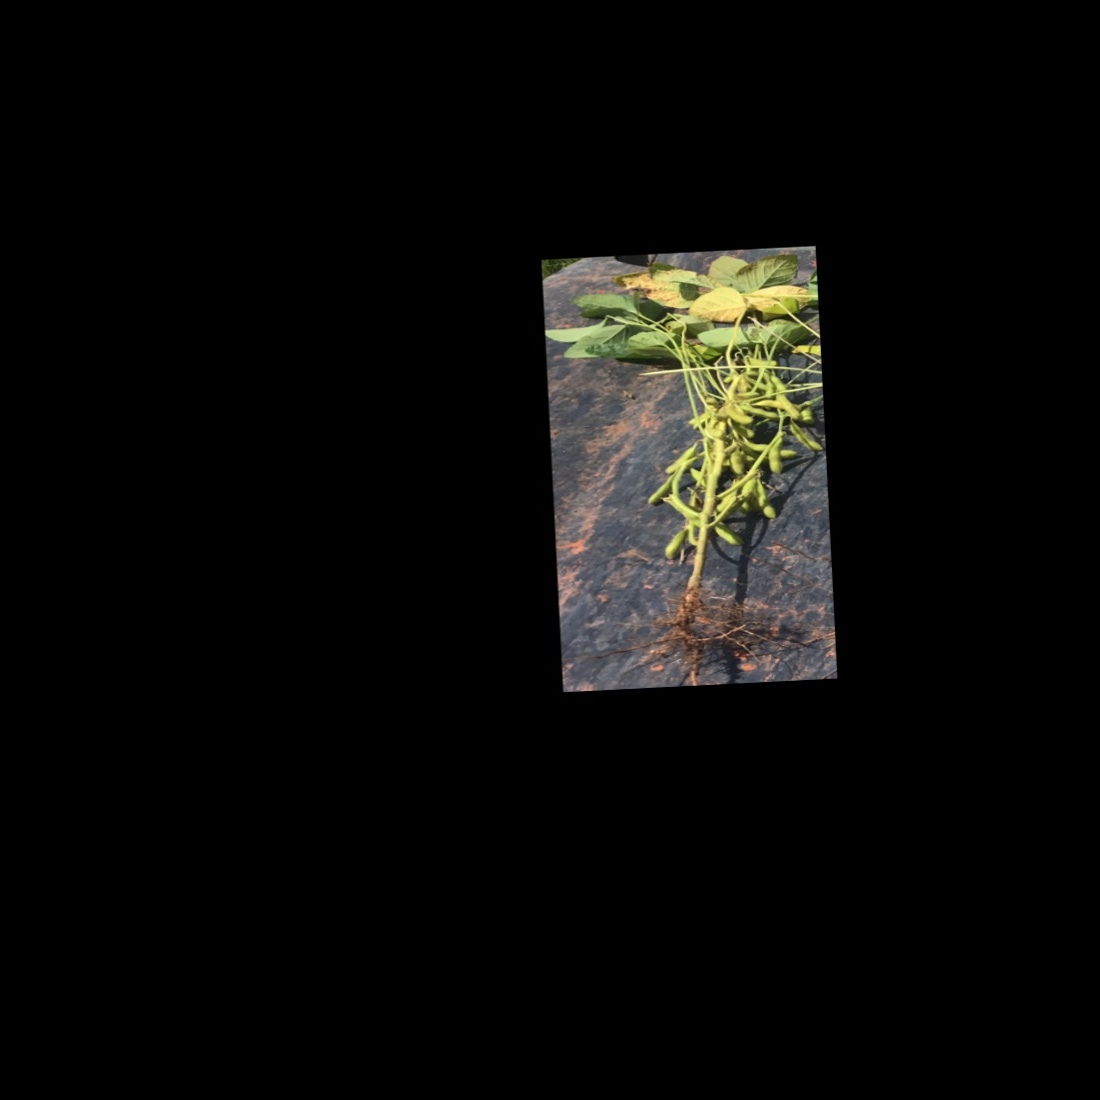pod: (782, 420, 825, 455), (661, 524, 693, 564), (661, 442, 698, 475), (642, 473, 675, 507), (765, 437, 791, 477), (780, 390, 805, 421)
soy: (551, 250, 835, 676)
